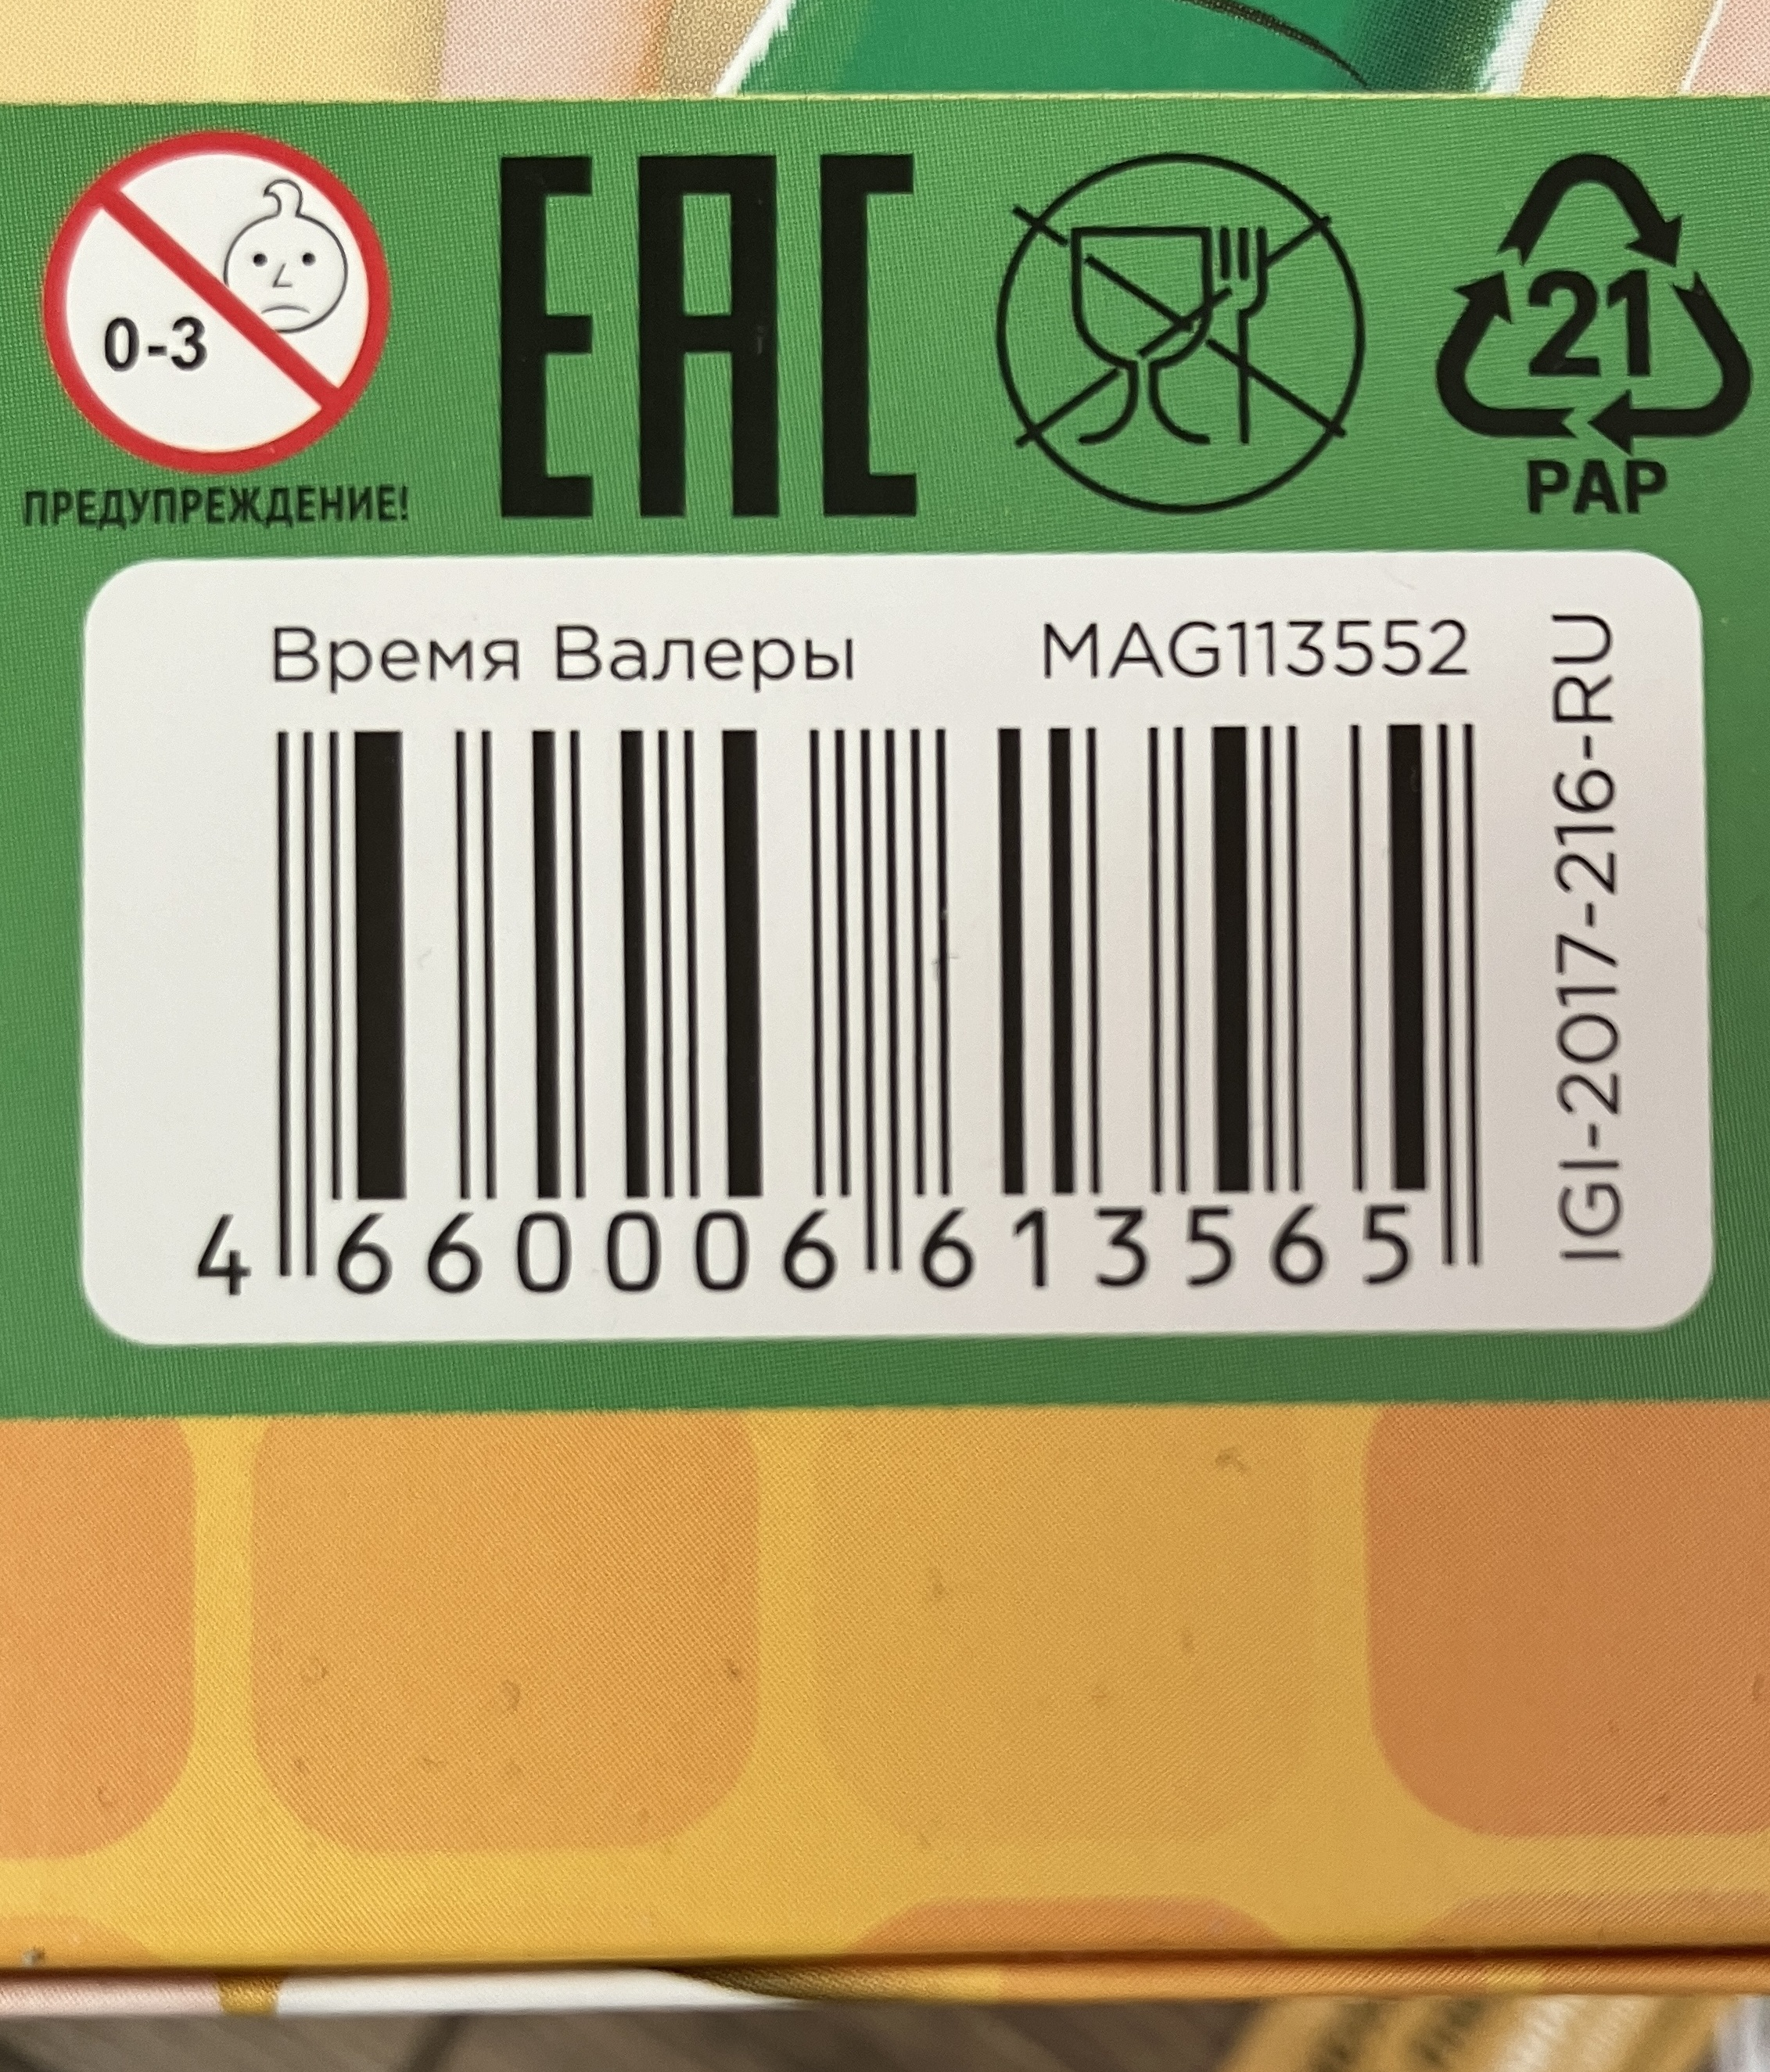1d: (277, 723, 1484, 1280)
